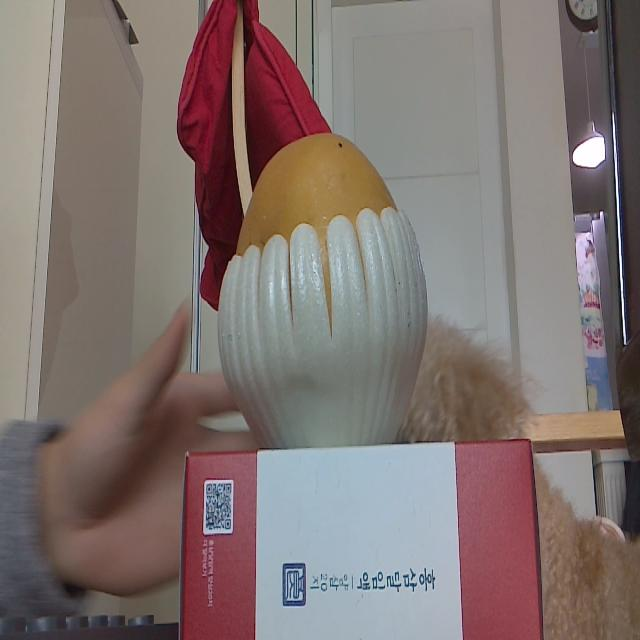pear: (225, 132, 426, 442)
